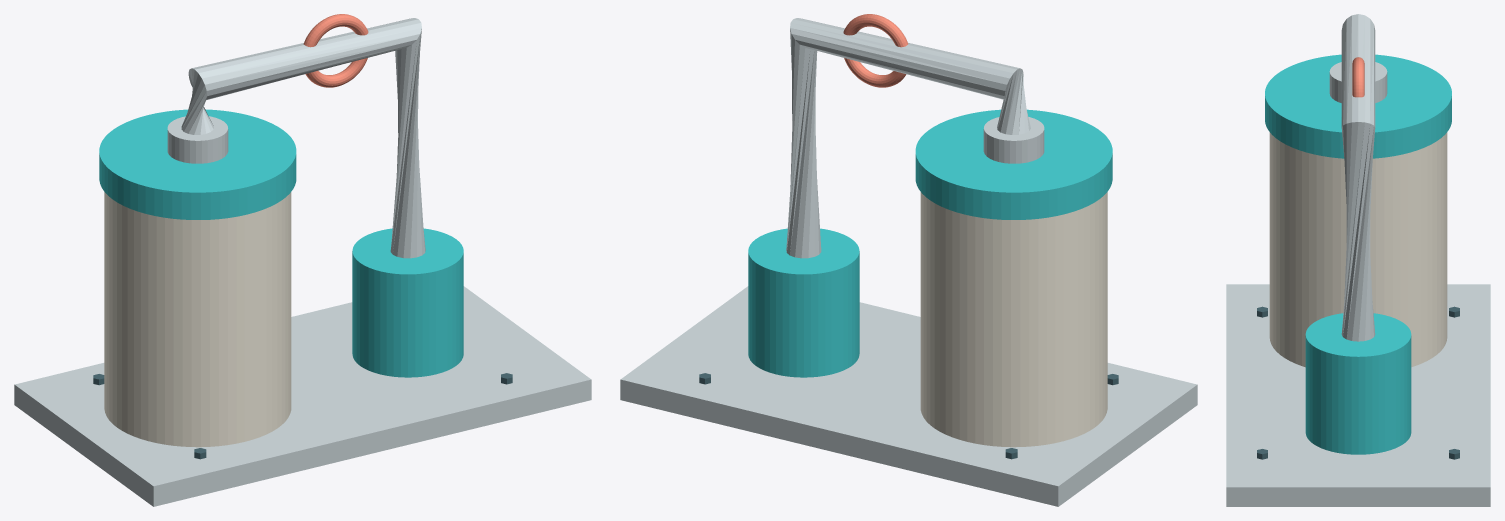
Rendered from waterpark-and-pool-operations-waterpark-and-pool-opera-36f62465__28975.glb.
3 renders of one model, left to right at view 1: azimuth 30°, elevation 25°; view 2: azimuth 150°, elevation 25°; view 3: azimuth 270°, elevation 25°, orthographic. The views are drawn at different scales.
Visible parts, largest first — view 1: waterpark-and-pool-operations-pump-filter-skid; view 2: waterpark-and-pool-operations-pump-filter-skid; view 3: waterpark-and-pool-operations-pump-filter-skid.
Boxes of the visible parts, <box> form: waterpark-and-pool-operations-pump-filter-skid: <box>14,14,591,506</box>; waterpark-and-pool-operations-pump-filter-skid: <box>620,14,1197,506</box>; waterpark-and-pool-operations-pump-filter-skid: <box>1226,14,1490,506</box>.
Bounding box in the file's own units: 2 × 1.66 × 1.1.
